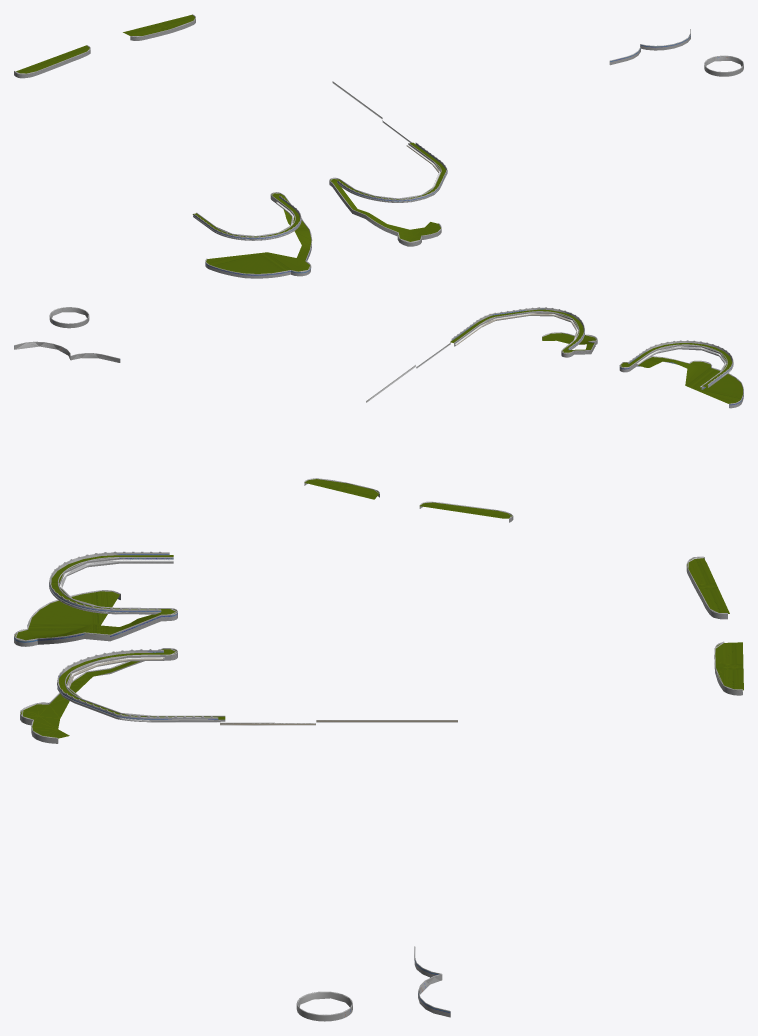
File: objects_un_c01flowerbed02.gltf
The picture shows the model from 3 angles, top to bottom: view 1: azimuth 30°, elevation 25°; view 2: azimuth 150°, elevation 25°; view 3: azimuth 270°, elevation 25°; orthographic projection. The views are drawn at different scales.
Parts seen in each view (by area): view 1: um_objects_un_c01flowerbed02_model_lod0Shape:objects_un_c01f (×3), um_objects_un_c01flowerbed02_model_lod1Shape:objects_un_c01f (×2), um_objects_un_c01flowerbed02_model_lod2Shape:objects_un_c01f; view 2: um_objects_un_c01flowerbed02_model_lod0Shape:objects_un_c01f (×3), um_objects_un_c01flowerbed02_model_lod1Shape:objects_un_c01f (×2), um_objects_un_c01flowerbed02_model_lod2Shape:objects_un_c01f (×2); view 3: um_objects_un_c01flowerbed02_model_lod0Shape:objects_un_c01f (×3), um_objects_un_c01flowerbed02_model_lod1Shape:objects_un_c01f (×2), um_objects_un_c01flowerbed02_model_lod2Shape:objects_un_c01f.
Boxes of the visible parts, box(x1,y1,x2,y2) form: um_objects_un_c01flowerbed02_model_lod0Shape:objects_un_c01f (×3): box(14, 14, 743, 278); um_objects_un_c01flowerbed02_model_lod1Shape:objects_un_c01f (×2): box(15, 15, 743, 273); um_objects_un_c01flowerbed02_model_lod2Shape:objects_un_c01f: box(201, 150, 445, 271); um_objects_un_c01flowerbed02_model_lod0Shape:objects_un_c01f (×3): box(14, 307, 743, 522); um_objects_un_c01flowerbed02_model_lod1Shape:objects_un_c01f (×2): box(27, 307, 743, 518); um_objects_un_c01flowerbed02_model_lod2Shape:objects_un_c01f (×2): box(416, 310, 741, 403); um_objects_un_c01flowerbed02_model_lod0Shape:objects_un_c01f (×3): box(14, 551, 743, 1021); um_objects_un_c01flowerbed02_model_lod1Shape:objects_un_c01f (×2): box(15, 552, 743, 1014); um_objects_un_c01flowerbed02_model_lod2Shape:objects_un_c01f: box(16, 555, 225, 719).
Size of the model in its own units: 222 by 13.78 by 162.
4 materials, 3 textured.
